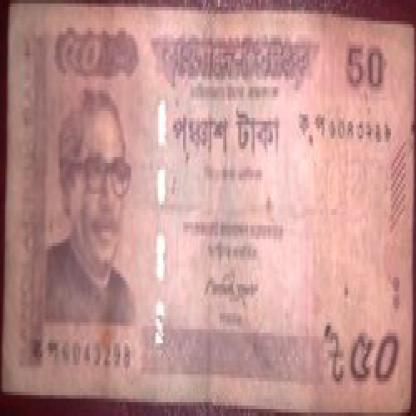Fifty taka: (55, 17, 115, 100), (338, 319, 401, 388)
